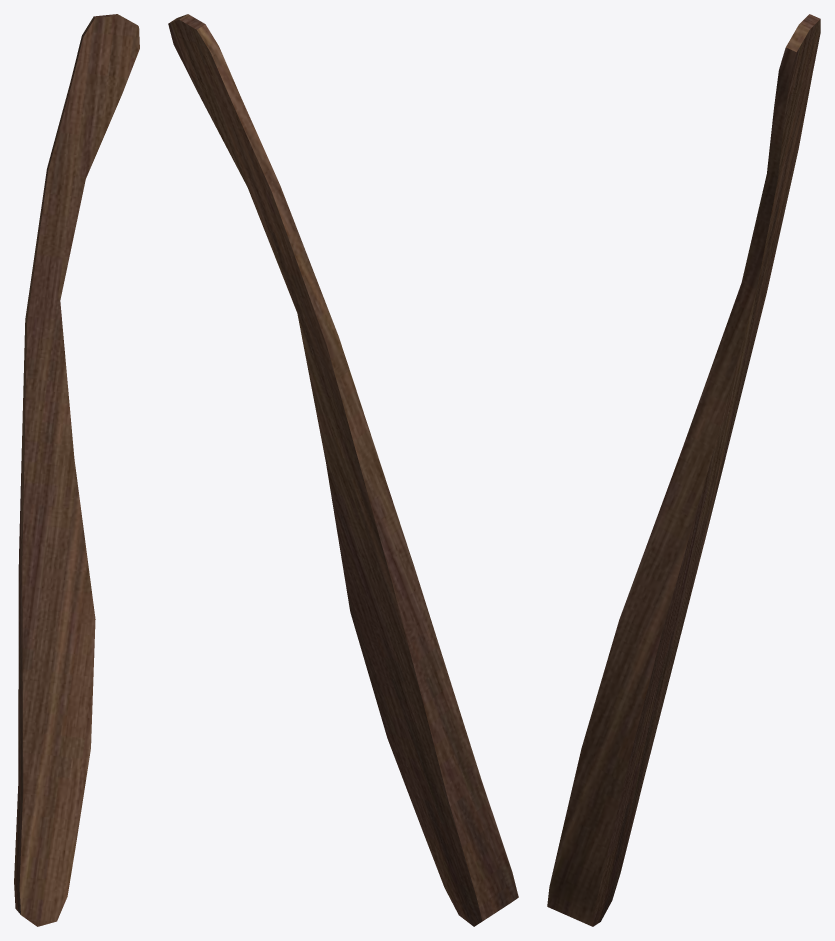
Rendered from XD-现代茶具4.fbx.
3 renders of one model, left to right at view 1: azimuth 30°, elevation 25°; view 2: azimuth 150°, elevation 25°; view 3: azimuth 270°, elevation 25°, orthographic. The views are drawn at different scales.
Parts seen in each view (by area): view 1: XD-现代茶具4; view 2: XD-现代茶具4; view 3: XD-现代茶具4.
Boxes of the visible parts, left/top/right/bottom form: XD-现代茶具4: left=14, top=14, right=139, bottom=926; XD-现代茶具4: left=168, top=14, right=518, bottom=926; XD-现代茶具4: left=547, top=14, right=820, bottom=926.
Size of the model in its own units: 0.0683 by 0.0623 by 0.2506.
